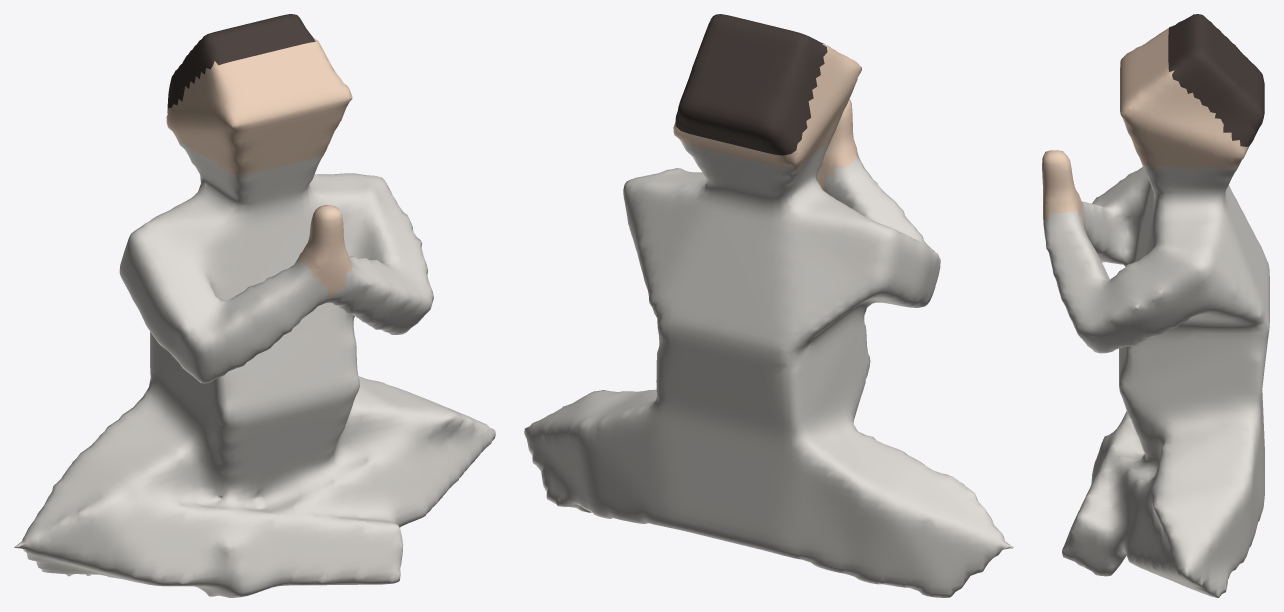
Rendered from devotee-sit.glb.
3 renders of one model, left to right at view 1: azimuth 30°, elevation 25°; view 2: azimuth 150°, elevation 25°; view 3: azimuth 270°, elevation 25°, orthographic. The views are drawn at different scales.
Visible parts, largest first — view 1: Devotee; view 2: Devotee; view 3: Devotee.
Boxes of the visible parts, x1,y1,x2,y2 form: Devotee: [14, 14, 495, 597]; Devotee: [524, 14, 1013, 597]; Devotee: [1042, 14, 1269, 597].
Size of the model in its own units: 0.7531 by 0.8092 by 0.3301.
